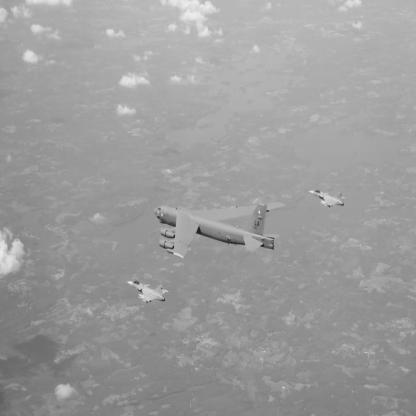B52: (154, 202, 287, 260)
JAS39: (126, 281, 170, 305), (309, 191, 347, 209)
